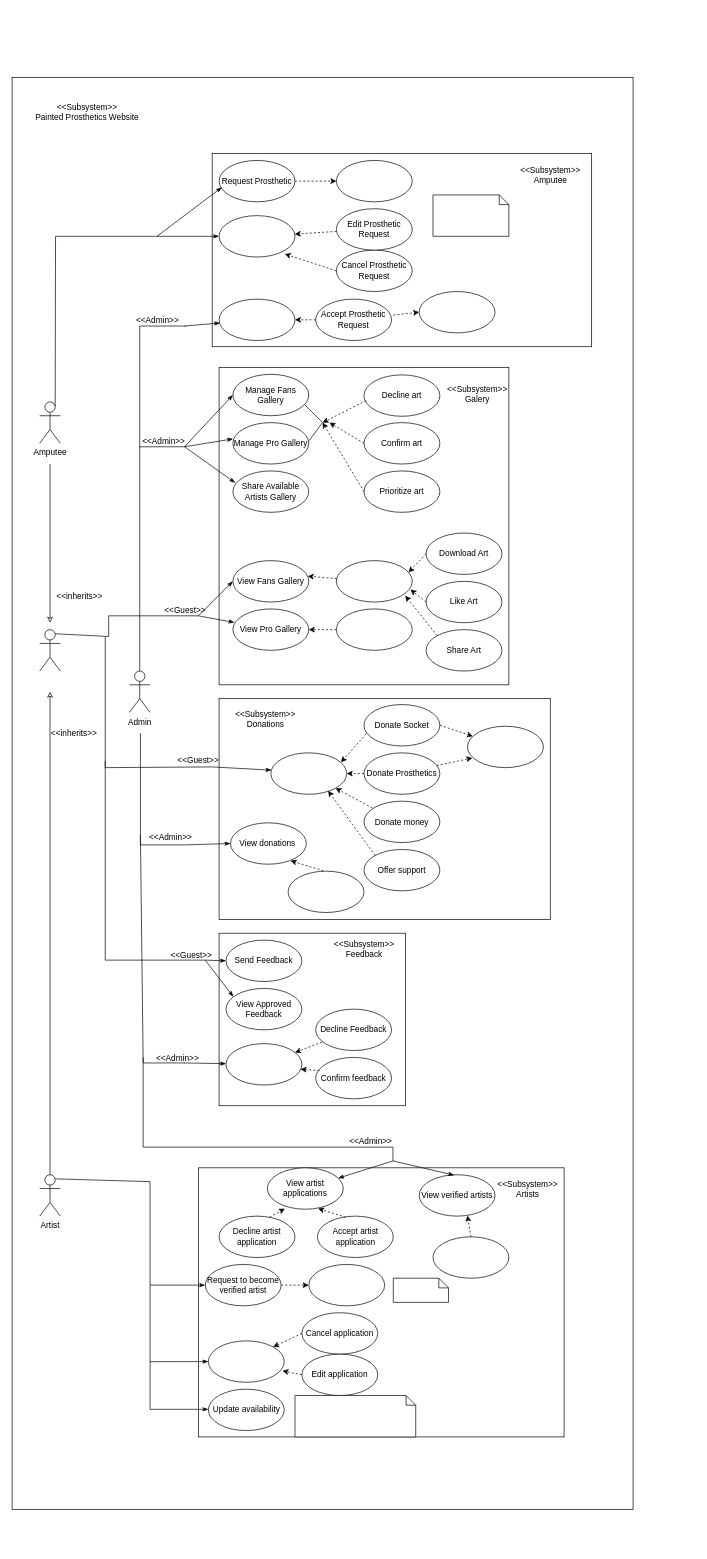
Some shapes in this 707 by 1559 pixel diagram are drawn without their labels. The centre of each missing label's shape, as x and y in pixels:
3 art photos minimum: the point at 420,1290
Available Unavailable for period of time Unavailable for undefined time: the point at 355,1416
Filter artwork: the point at 374,629
Filter donations: the point at 325,891
Guest: the point at 49,650
Must provide a formal proof of disability: the point at 470,215
Notify amputee & artist meeting: the point at 456,312
Notify next step REFINE: the point at 505,747
Submit artist application form: the point at 346,1285
Submit Prosthetic Request form: the point at 374,181
View Art: the point at 374,581
View Artist Application: the point at 246,1361
View artists by availability: the point at 470,1257
View Donation Page: the point at 308,773
View Pending Feedback: the point at 263,1064
View Prosthetic Request: the point at 256,236
View Prosthetic Requests: the point at 256,319
